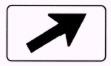Indicador de via de saida: (1, 1, 111, 65)
